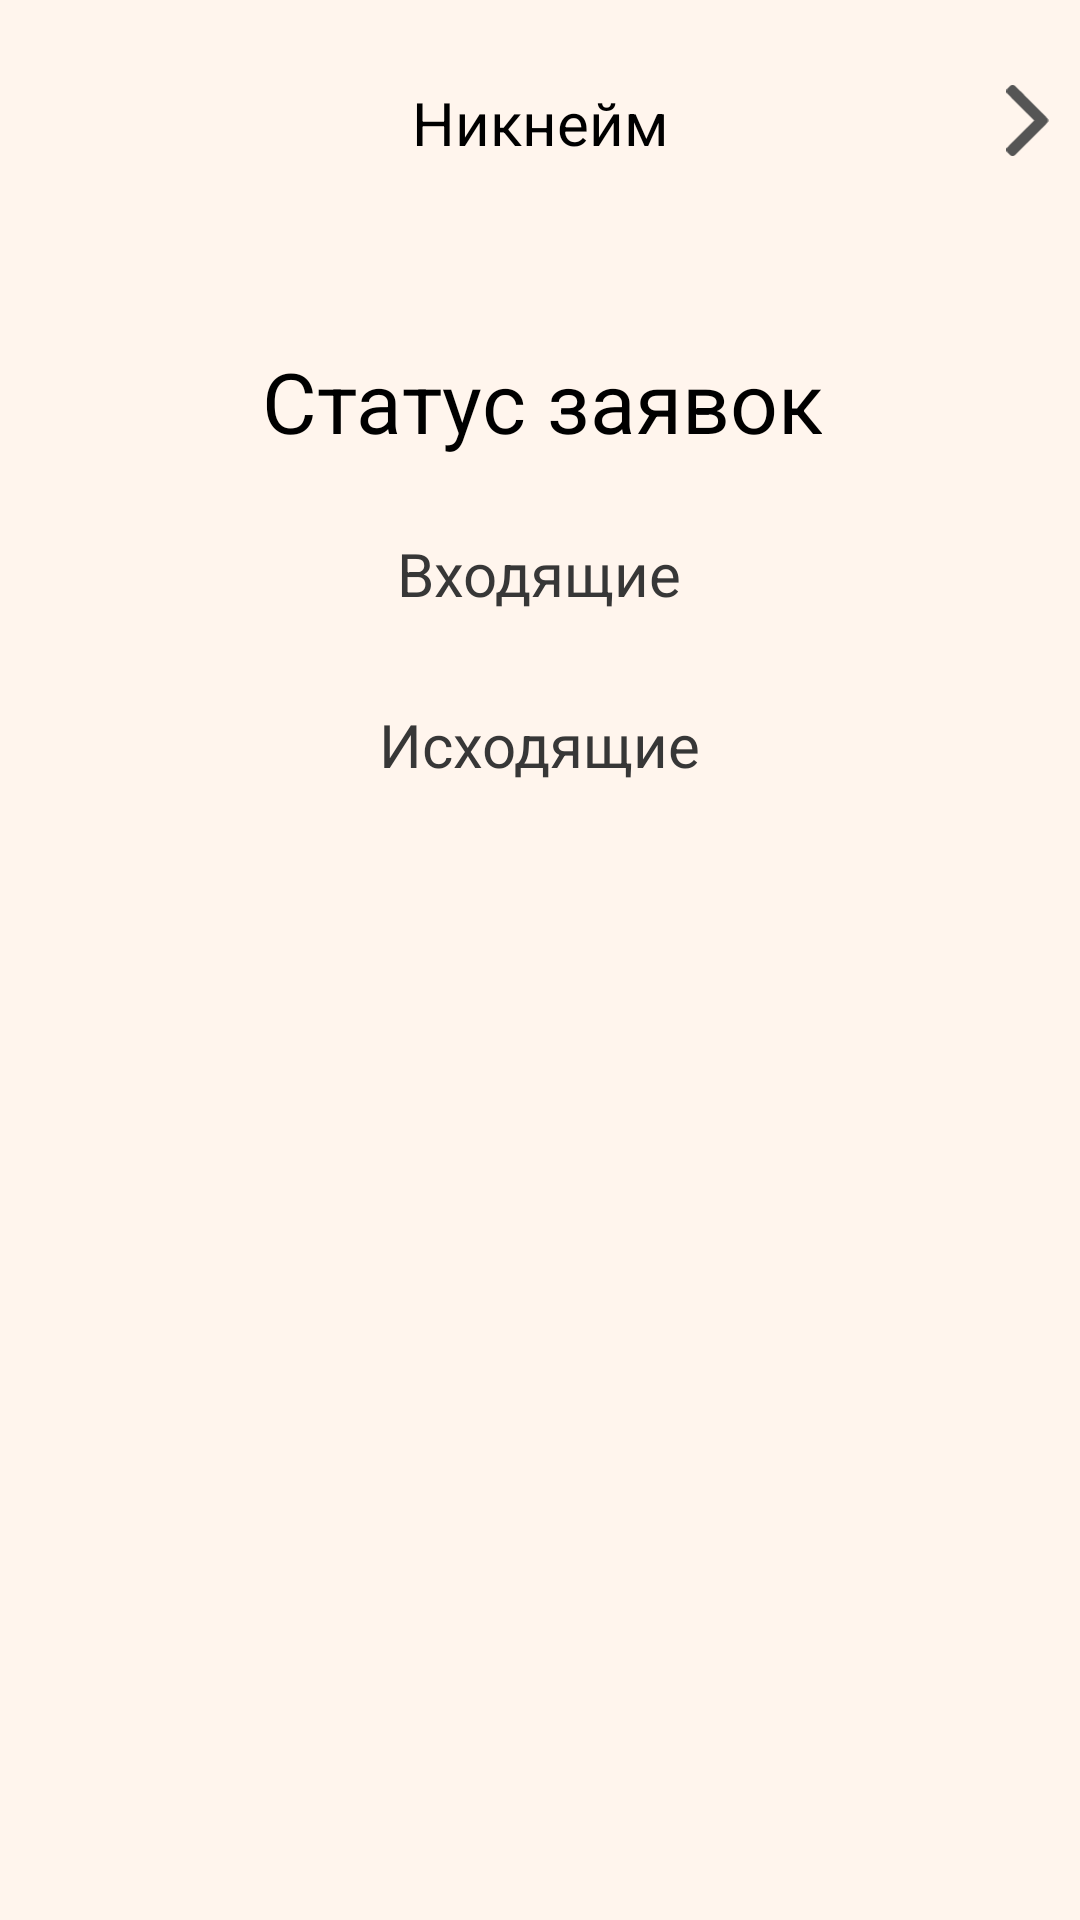

Screen size 1080px×1920px. Icon name, then its box in pixels as BBox(x1, y1, x2, y2):
arrow right: BBox(1006, 85, 1049, 156)
